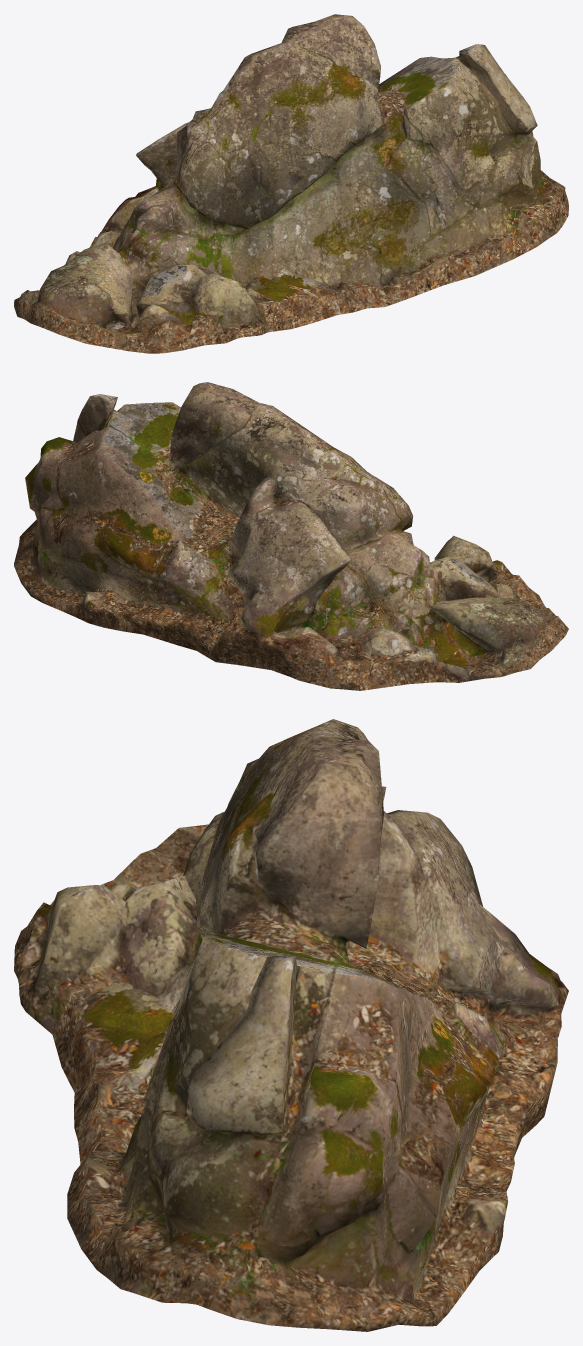
The model's file is mossy_rock_formation.glb.
3 renders of one model, top to bottom at view 1: azimuth 30°, elevation 25°; view 2: azimuth 150°, elevation 25°; view 3: azimuth 270°, elevation 25°, orthographic. The views are drawn at different scales.
Visible parts, largest first — view 1: plFhY_LOD0_TIER3_000; view 2: plFhY_LOD0_TIER3_000; view 3: plFhY_LOD0_TIER3_000.
Boxes of the visible parts, left/top/right/bottom form: plFhY_LOD0_TIER3_000: left=14, top=14, right=568, bottom=353; plFhY_LOD0_TIER3_000: left=14, top=382, right=568, bottom=690; plFhY_LOD0_TIER3_000: left=14, top=719, right=568, bottom=1331.
Bounding box in the file's own units: 3.27 × 1.41 × 1.63.
1 material, 1 textured.
